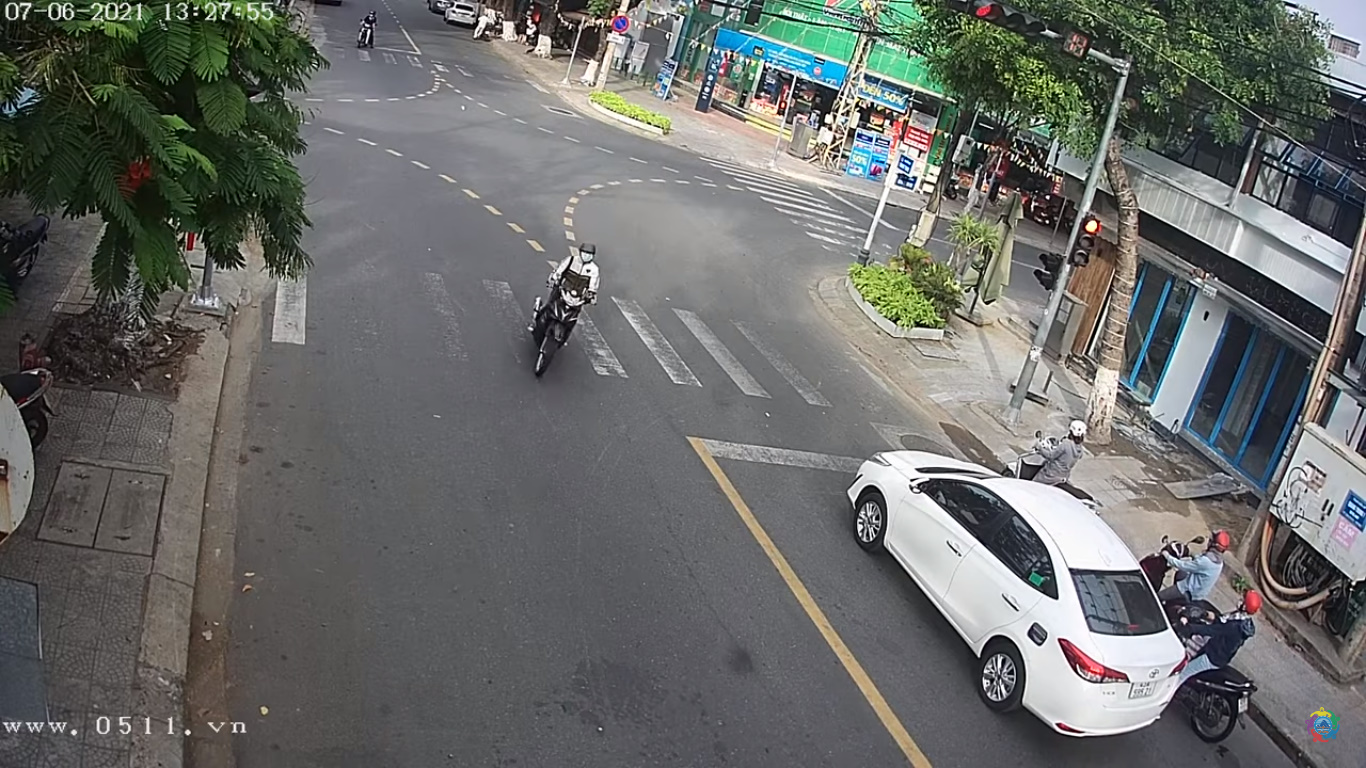motorbike: (522, 244, 604, 369)
